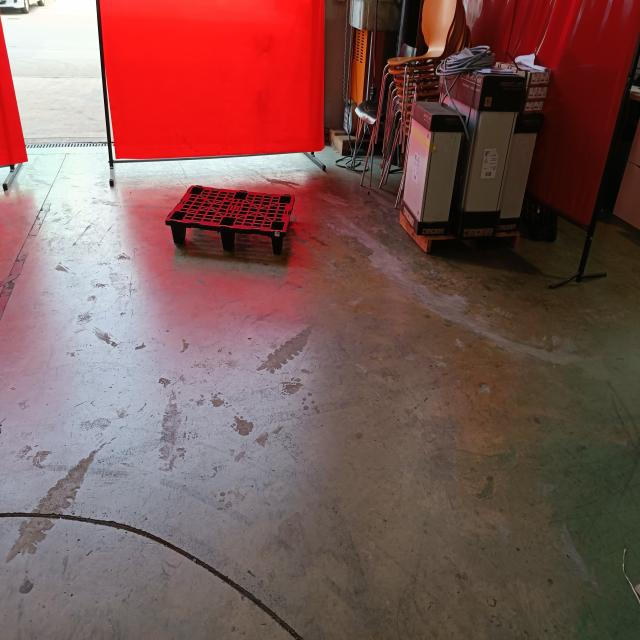block: (221, 223, 242, 260), (167, 216, 188, 249), (267, 229, 286, 262)
front: (166, 213, 288, 268)
